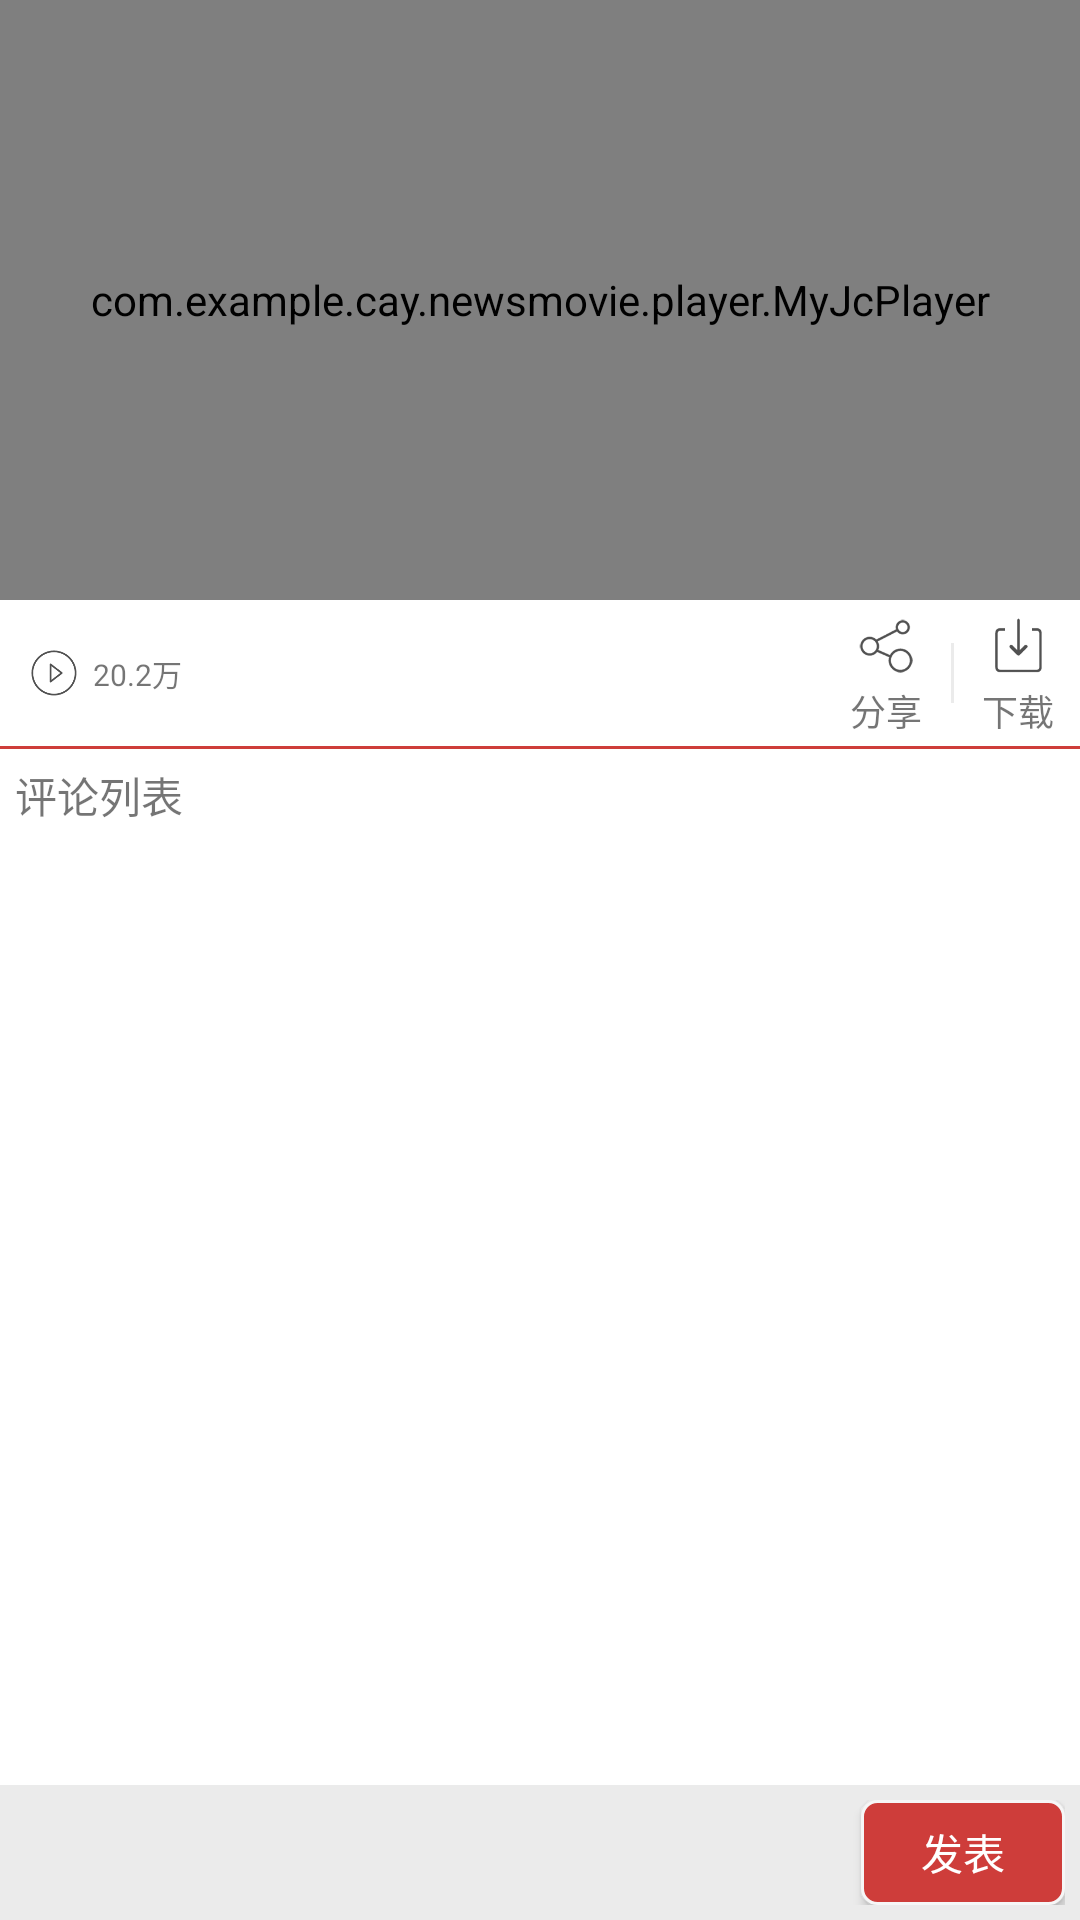

Named icons in this screenshot (1080*1920) and their bounding boxes, (x1, y1, x2, y2):
play num: (31, 650, 77, 696)
